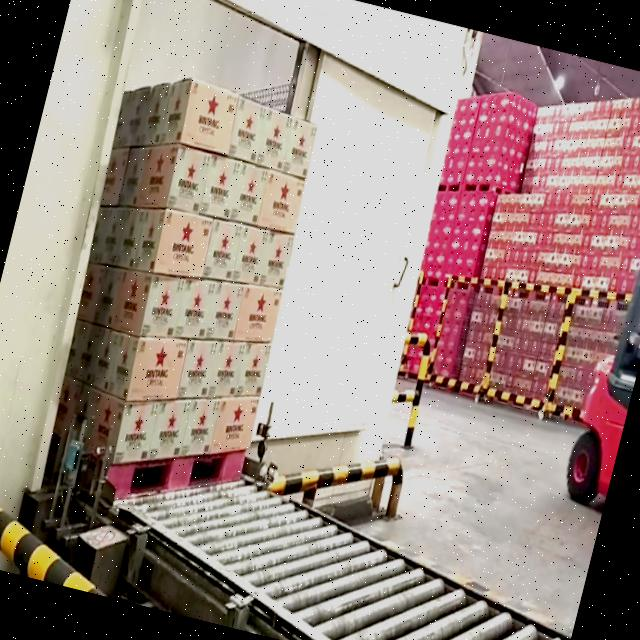pallet: (16, 55, 350, 539)
